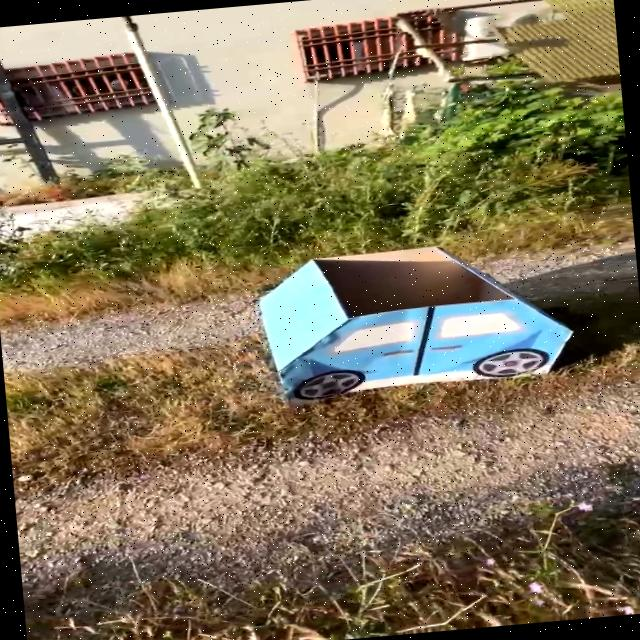blue_car: (171, 171, 640, 447)
